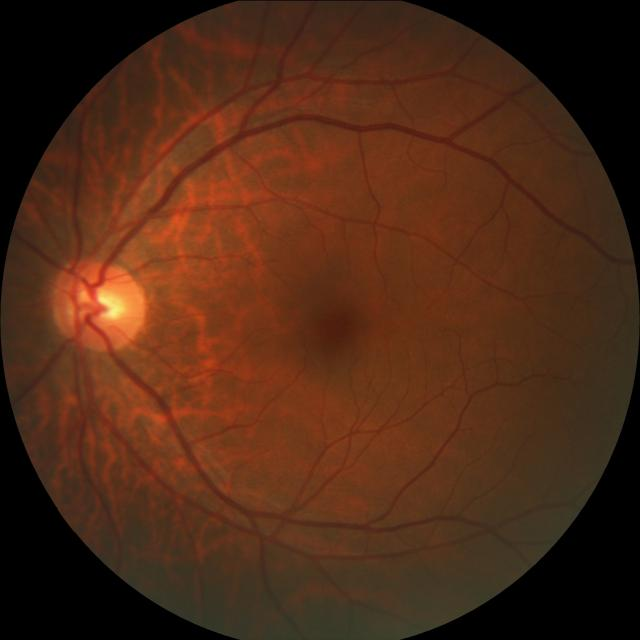OC: (73, 283, 125, 325)
OD: (52, 256, 147, 351)
